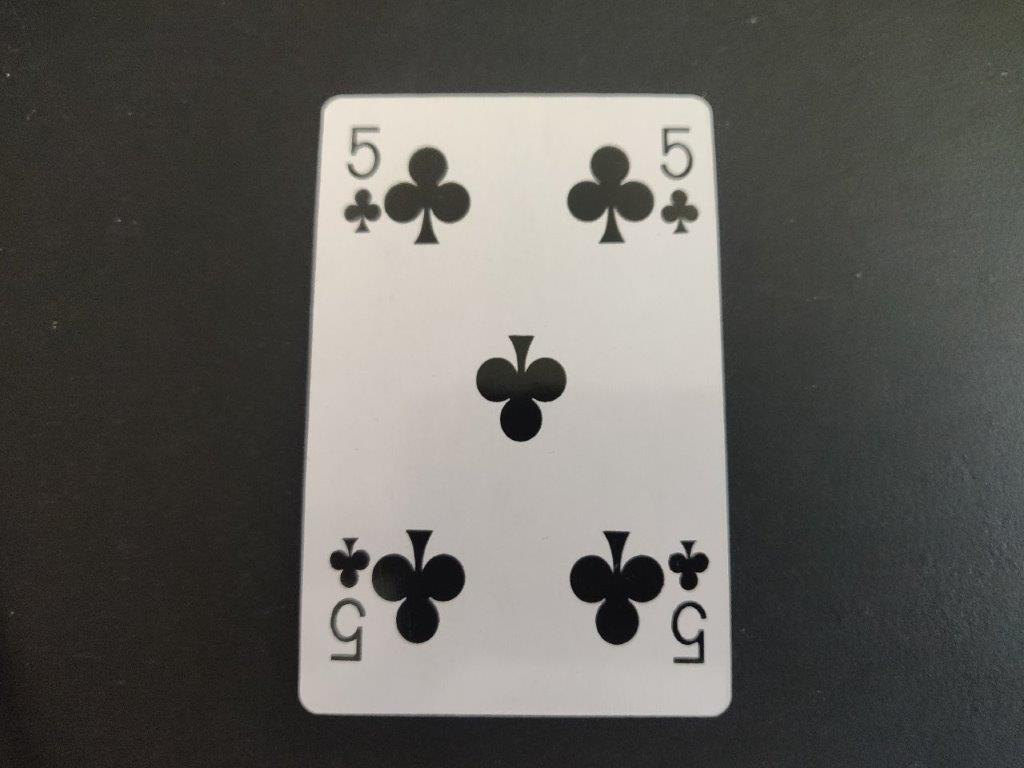5C: (658, 123, 703, 243), (342, 120, 385, 242)
